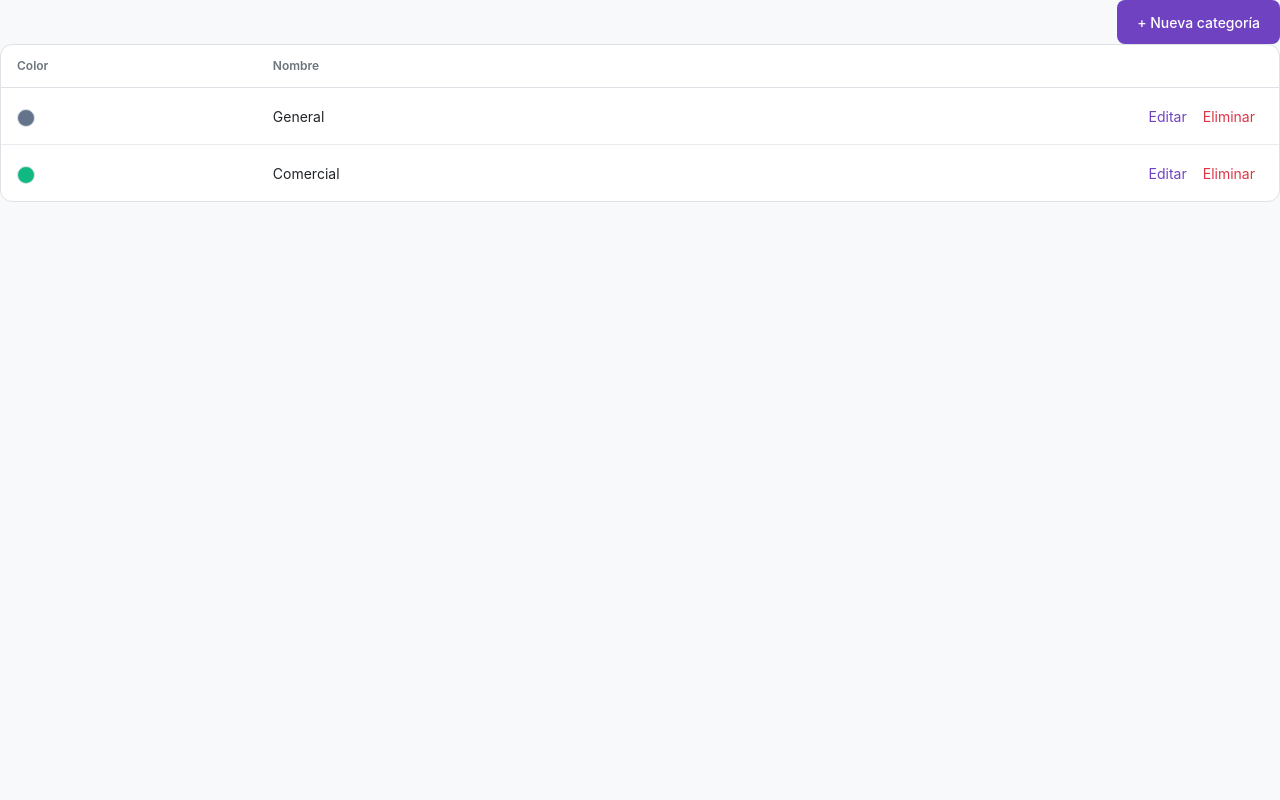
NewsCategoriesBody — CRUD (NEWS-FE-CAT-1) › maps a 409 NEWS_CATEGORY_NAME_CONFLICT to a clear message, modal stays open
Click the button "+ Nueva categoría" at [1199, 22], box [1117,0,1279,44]
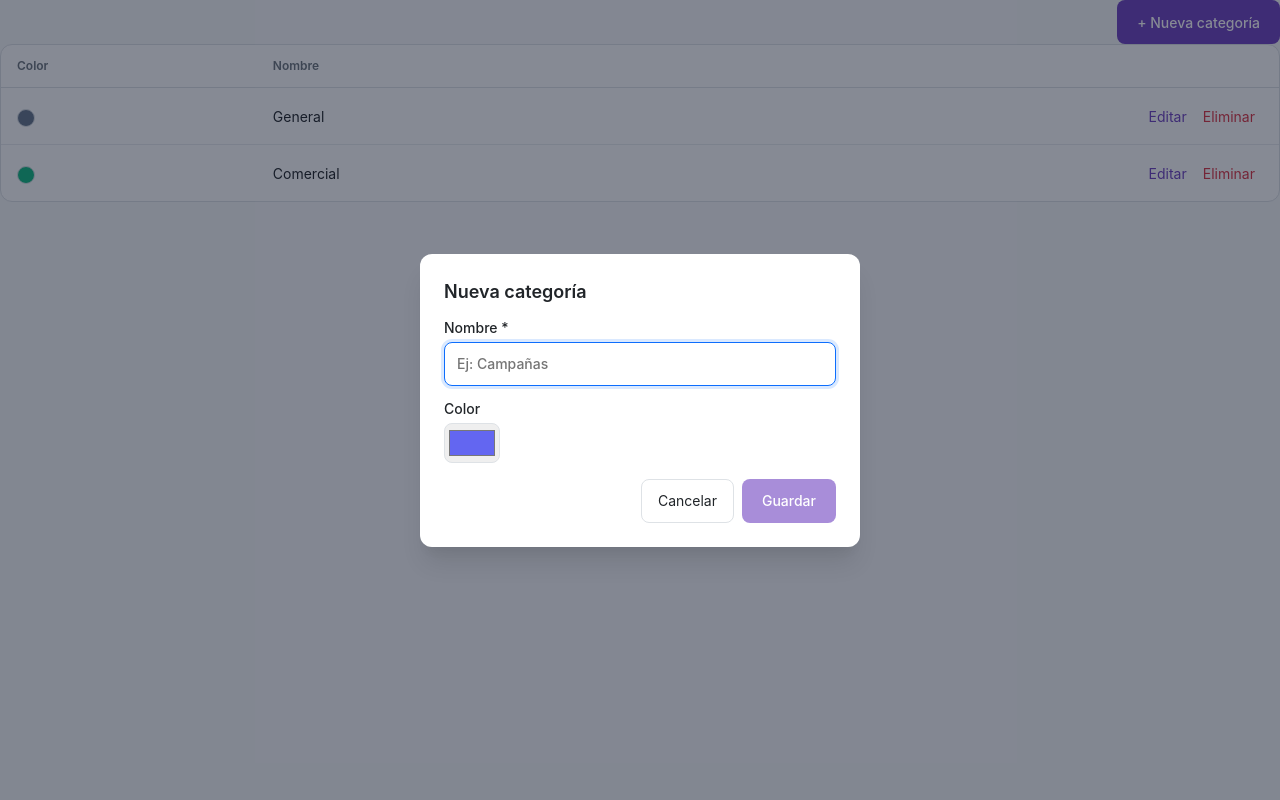
Type "Comercial" into the field labelled "Nombre *" at [640, 364], box [444,342,836,386]
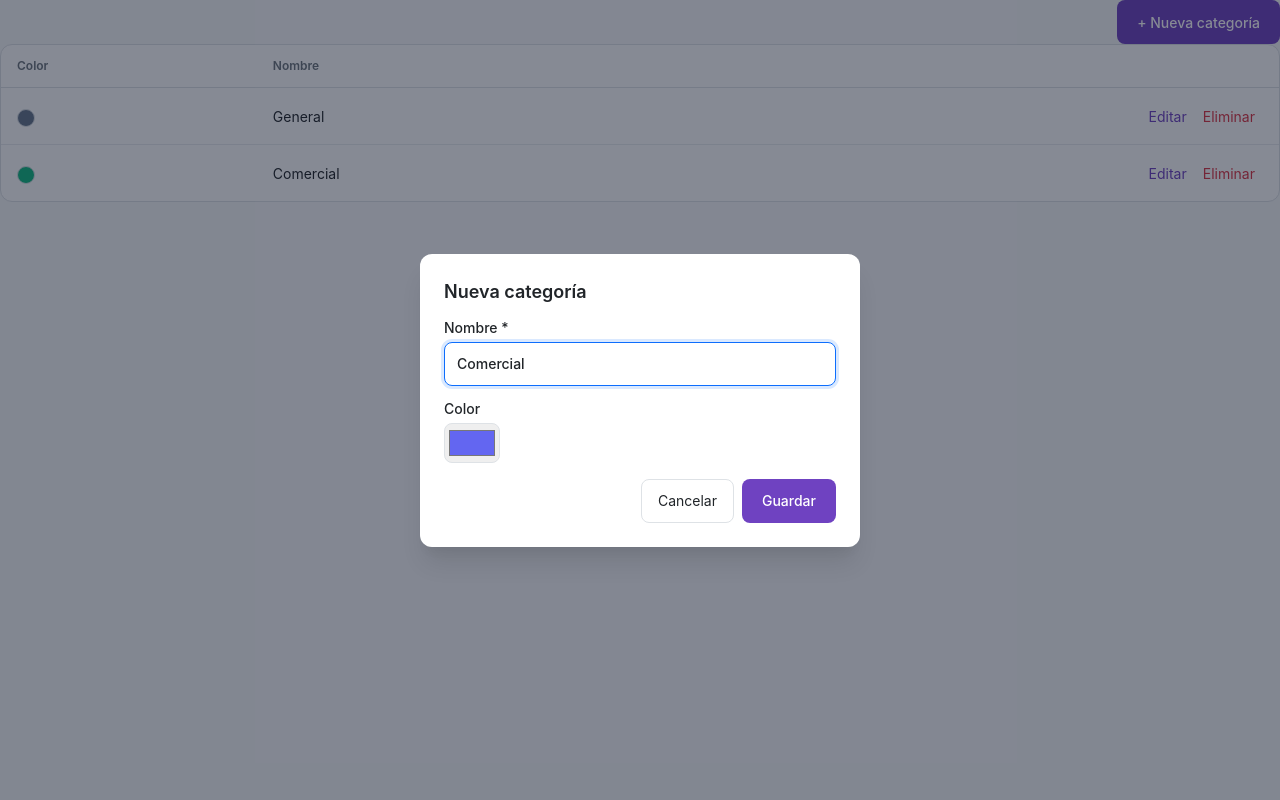
Click the button "Guardar" at [789, 500], box [742,478,836,522]
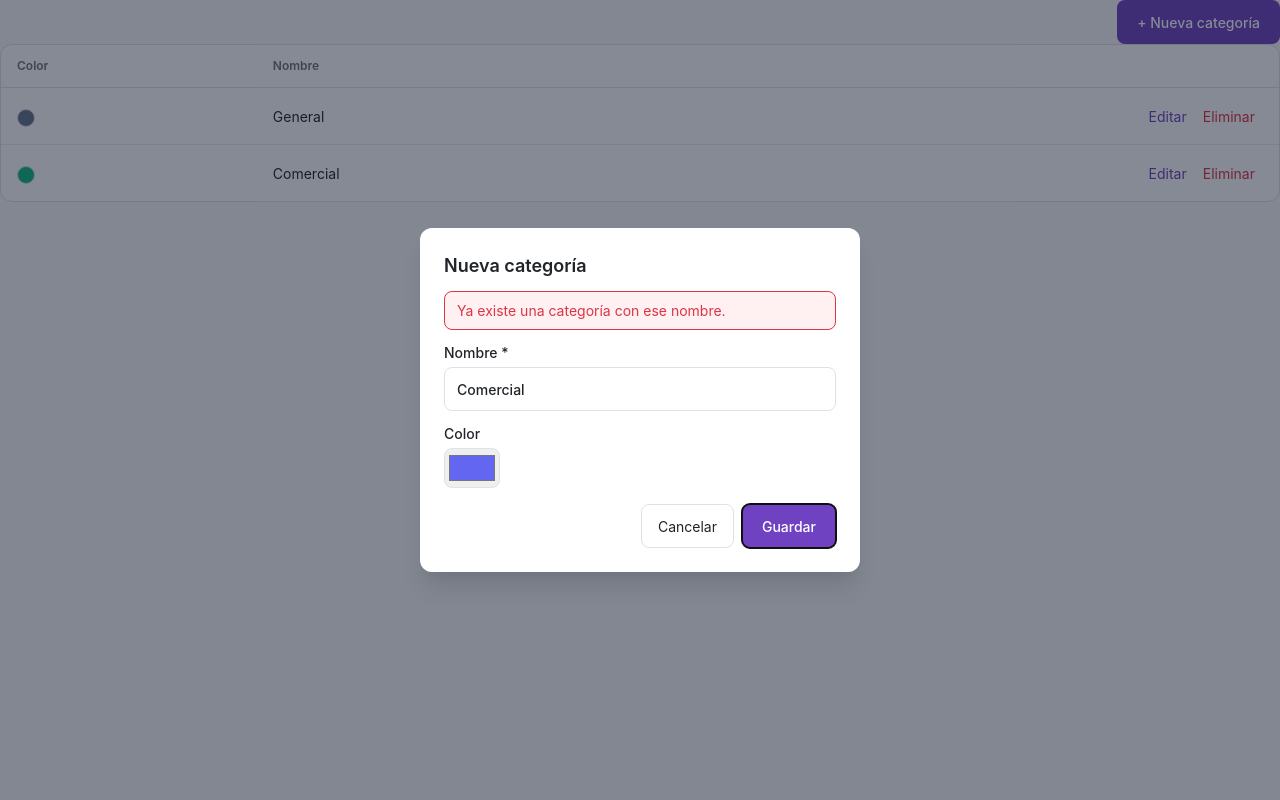
Check: the text "Ya existe una categoría con ese nombre." is shown, box [444,291,836,330]
